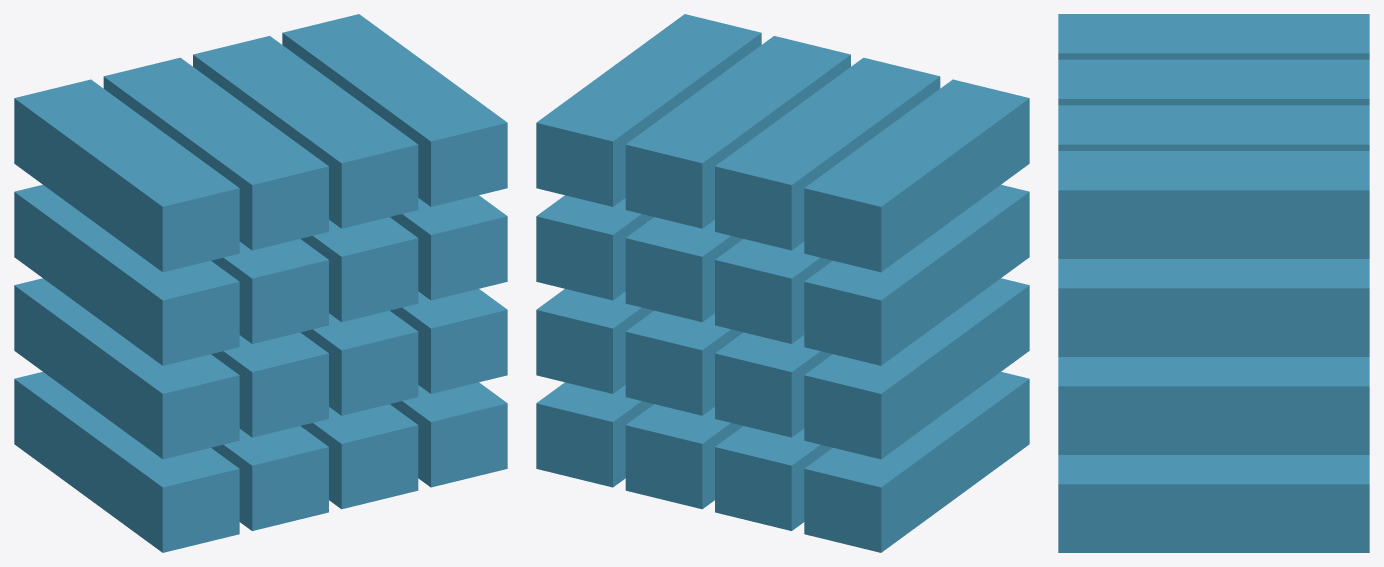
File: FacadeKit_MidriseWindowGrid_LOD1.glb
3 views of the same model, side by side, from view 1: azimuth 30°, elevation 25°; view 2: azimuth 150°, elevation 25°; view 3: azimuth 270°, elevation 25° (orthographic). The views are drawn at different scales.
Visible parts, largest first — view 1: FacadeKit_MidriseWindowGrid_LOD1; view 2: FacadeKit_MidriseWindowGrid_LOD1; view 3: FacadeKit_MidriseWindowGrid_LOD1.
Boxes of the visible parts, <box> form: FacadeKit_MidriseWindowGrid_LOD1: <box>14,14,507,552</box>; FacadeKit_MidriseWindowGrid_LOD1: <box>536,14,1029,552</box>; FacadeKit_MidriseWindowGrid_LOD1: <box>1058,14,1369,552</box>.
Bounding box in the file's own units: 0.965 × 0.925 × 0.72.
